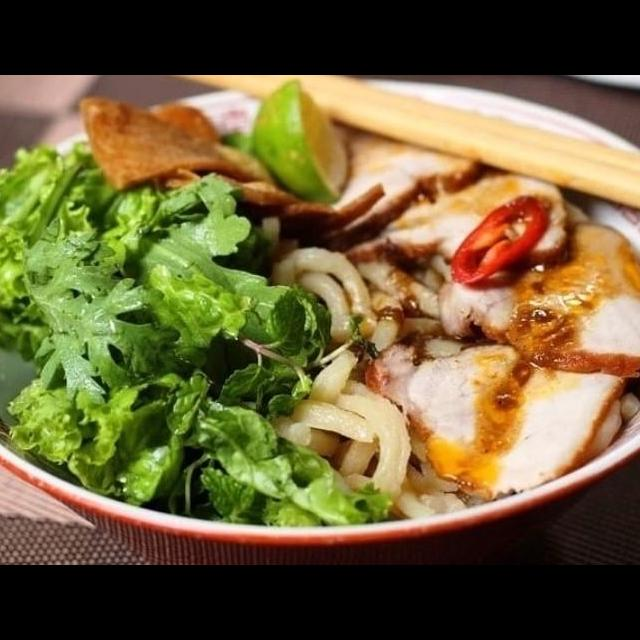banh da: (70, 90, 264, 194), (156, 158, 306, 219)
mi: (236, 241, 474, 523)
thit heo: (358, 328, 628, 501), (429, 216, 640, 383), (328, 163, 578, 273), (286, 122, 488, 256)
